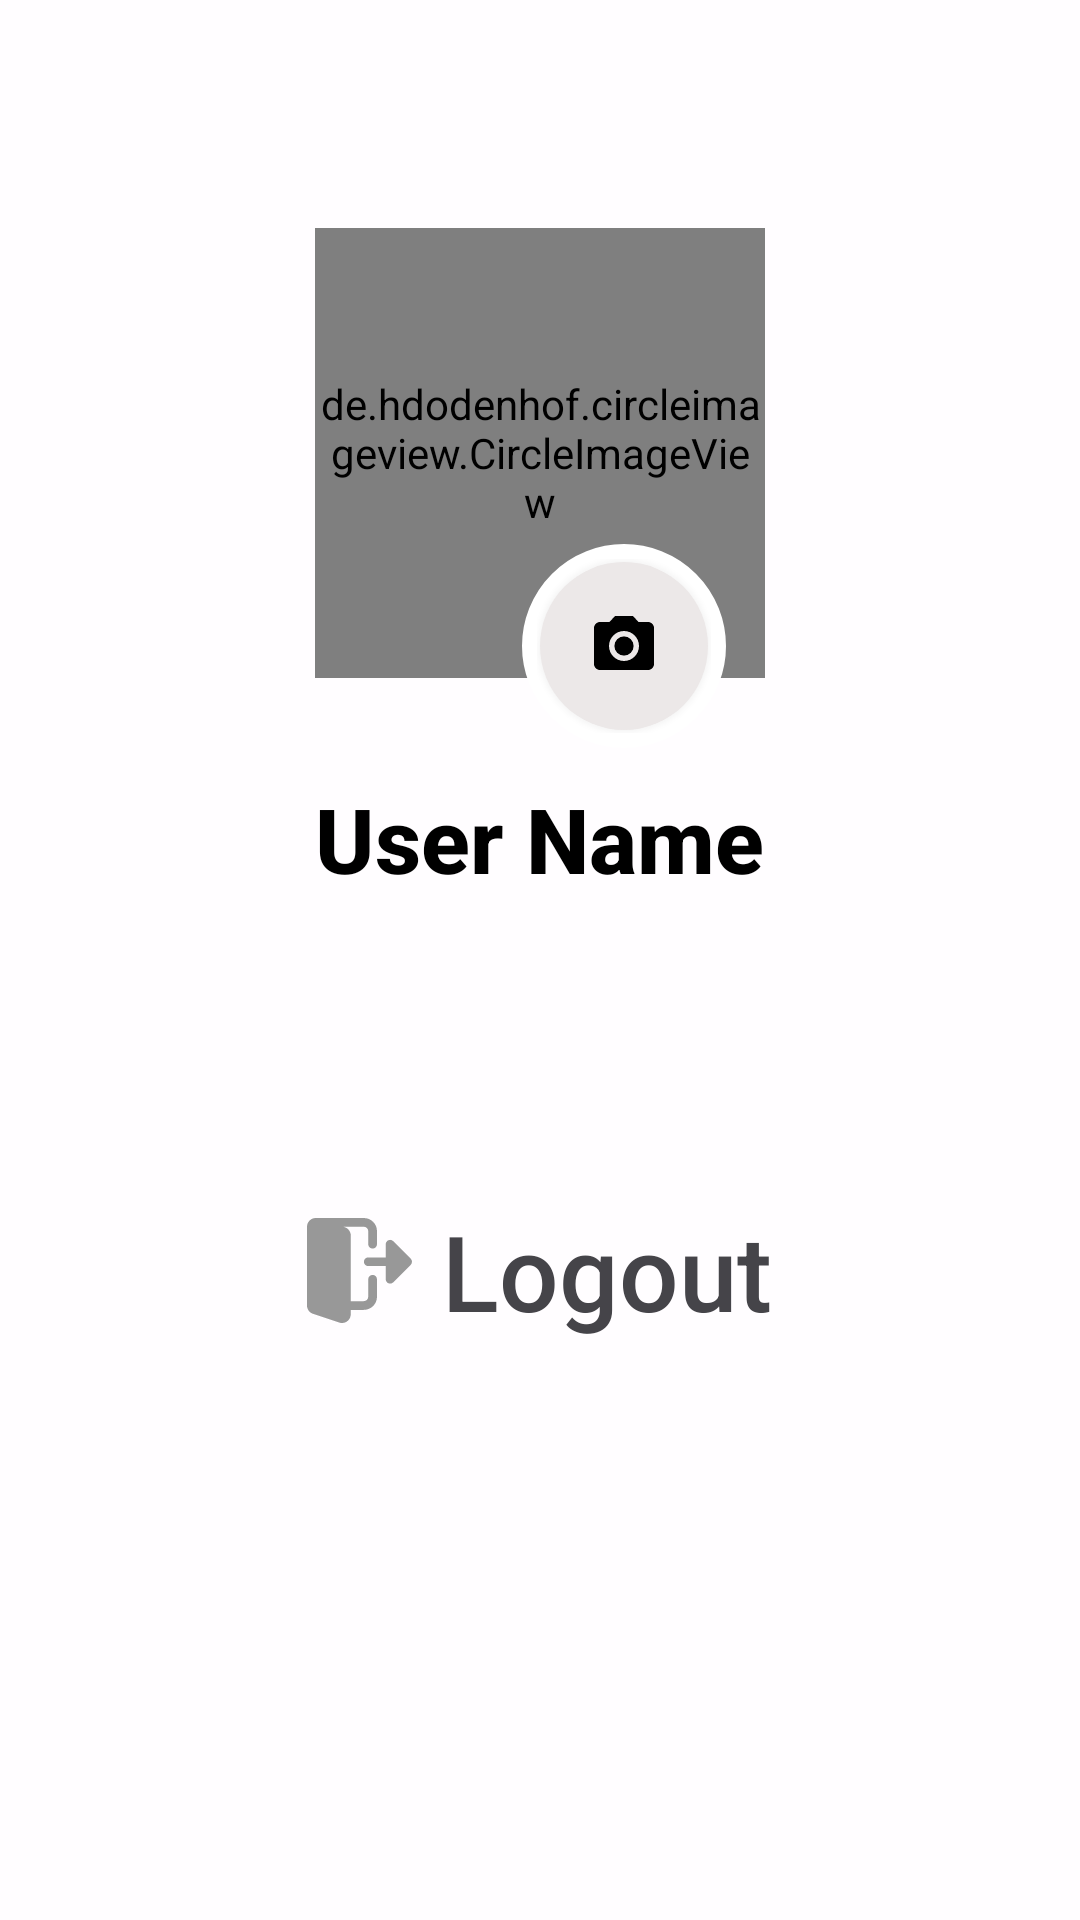

Point at icon controls on the screen. Image size 1080 x 1920, points as (x,y).
photo camera: (624,643)
